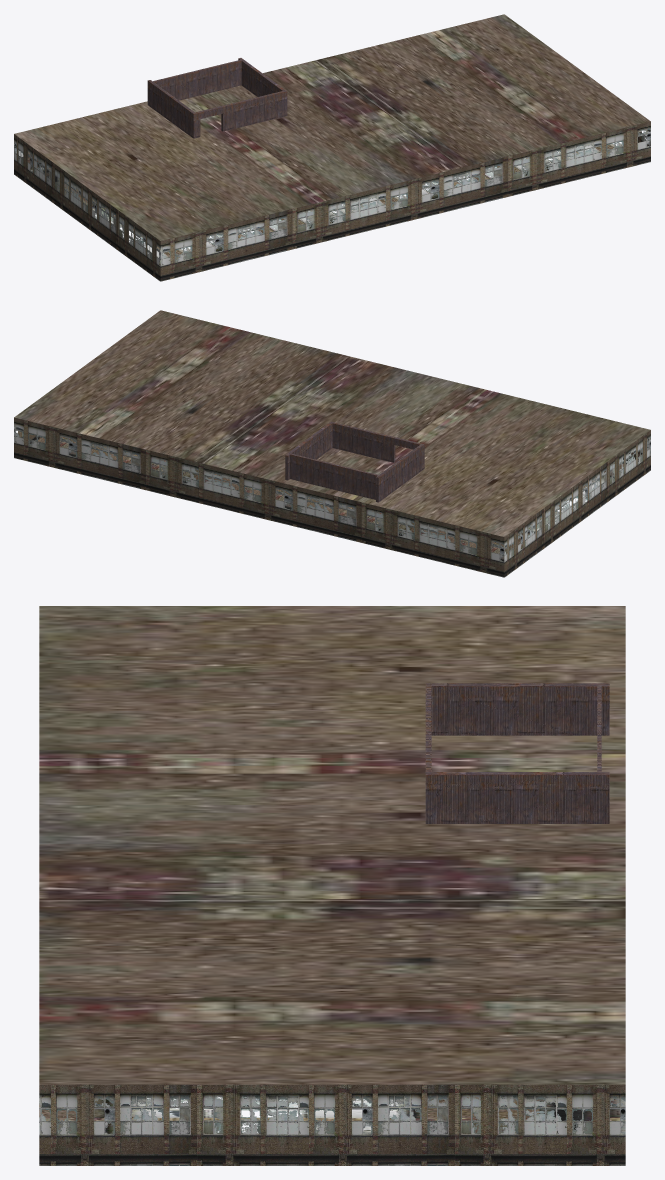
File: BagSS08top_0.fbx
The picture shows the model from 3 angles, top to bottom: view 1: azimuth 30°, elevation 25°; view 2: azimuth 150°, elevation 25°; view 3: azimuth 270°, elevation 25°; orthographic projection. The views are drawn at different scales.
Parts seen in each view (by area): view 1: topBox0, topWalls0; view 2: topBox0, topWalls0; view 3: topBox0, topWalls0.
Boxes of the visible parts, left/top/right/bottom form: topBox0: left=14, top=14, right=650, bottom=281; topWalls0: left=147, top=58, right=287, bottom=138; topBox0: left=14, top=310, right=650, bottom=577; topWalls0: left=285, top=421, right=424, bottom=502; topBox0: left=39, top=606, right=625, bottom=1165; topWalls0: left=425, top=683, right=609, bottom=823.
Size of the model in its own units: 60.61 by 7.7 by 31.37.
